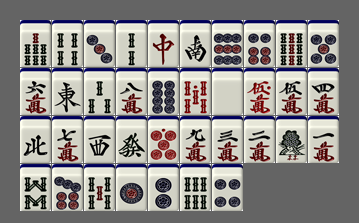0m: (244, 68, 275, 115)
0p: (148, 116, 179, 163)
0s: (180, 68, 211, 115)
1m: (308, 116, 339, 163)
1p: (116, 164, 147, 211)
1s: (276, 116, 307, 163)
1z: (52, 68, 83, 115)
2m: (244, 116, 275, 163)
2p: (148, 164, 179, 211)
2s: (116, 20, 147, 67)
2z: (180, 20, 211, 67)
3m: (212, 116, 243, 163)
3p: (84, 20, 115, 67)
3s: (84, 68, 115, 115)
3z: (84, 116, 115, 163)
4m: (308, 68, 339, 115)
4p: (212, 164, 243, 211)
4s: (52, 20, 83, 67)
4z: (20, 116, 51, 163)
5m: (276, 68, 307, 115)
5p: (308, 20, 339, 67)
5s: (84, 164, 115, 211)
5z: (212, 68, 243, 115)
6m: (20, 68, 51, 115)
6p: (244, 20, 275, 67)
6s: (180, 164, 211, 211)
6z: (116, 116, 147, 163)
7m: (52, 116, 83, 163)
7p: (52, 164, 83, 211)
7s: (20, 20, 51, 67)
7z: (148, 20, 179, 67)
8m: (116, 68, 147, 115)
8p: (148, 68, 179, 115)
8s: (20, 164, 51, 211)
9m: (180, 116, 211, 163)
9p: (212, 20, 243, 67)
9s: (276, 20, 307, 67)
